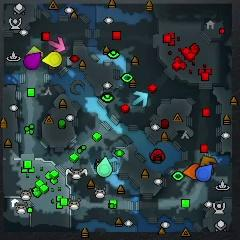p1: (195, 164, 213, 182)
p2: (97, 156, 112, 177)
p3: (24, 52, 41, 70)
p4: (42, 51, 62, 67)
p5: (182, 163, 200, 180)
x1: (48, 37, 66, 53)
x2: (27, 46, 44, 57)
x3: (132, 90, 148, 108)
x5: (200, 156, 217, 165)
